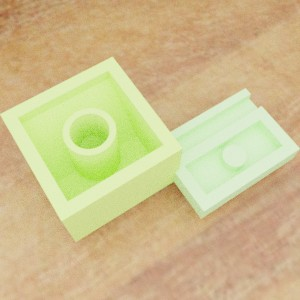lego: (0, 56, 182, 242), (152, 88, 300, 218)
